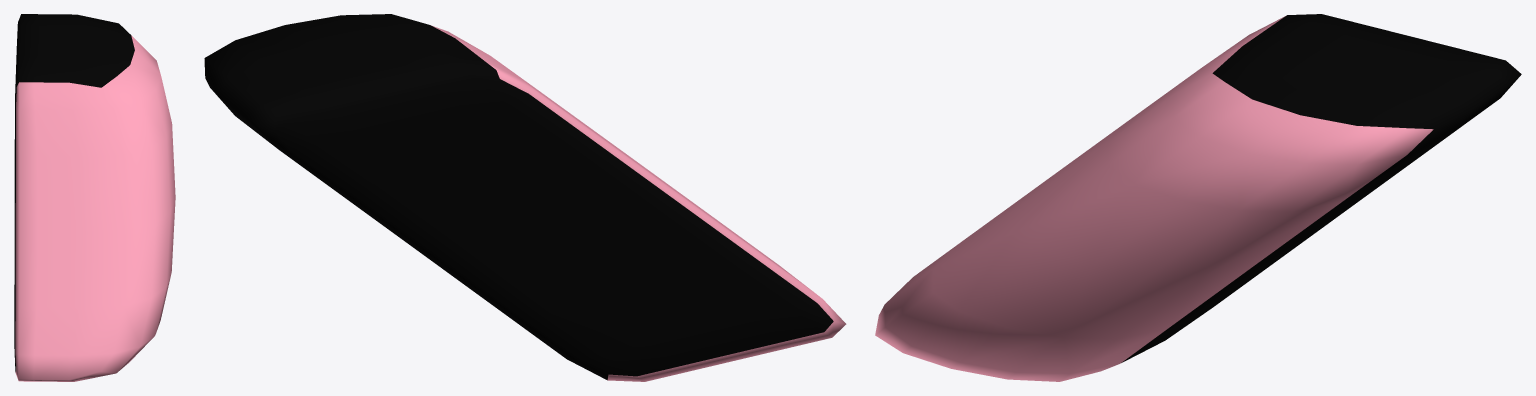
The picture shows the model from 3 angles, left to right: view 1: azimuth 30°, elevation 25°; view 2: azimuth 150°, elevation 25°; view 3: azimuth 270°, elevation 25°; orthographic projection. The views are drawn at different scales.
Parts seen in each view (by area): view 1: Box1260; view 2: Box1260; view 3: Box1260.
Boxes of the visible parts, left/top/right/bottom form: Box1260: left=14, top=14, right=175, bottom=381; Box1260: left=204, top=14, right=846, bottom=381; Box1260: left=875, top=14, right=1521, bottom=381.
Bounding box in the file's own units: 0.044 × 0.0357 × 0.0583.
